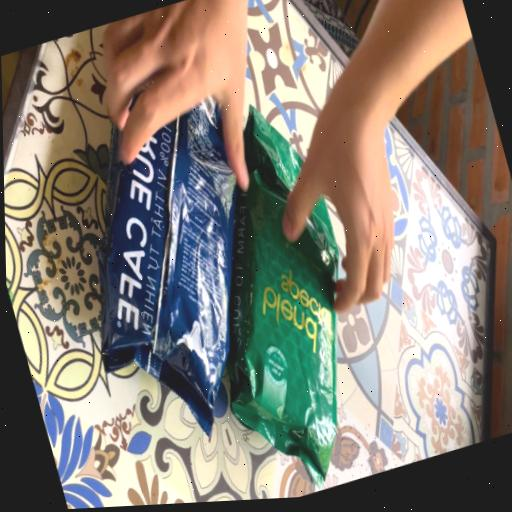cafe_hat: (98, 101, 235, 434), (134, 101, 236, 435)
cafe_xay: (227, 109, 338, 489)
